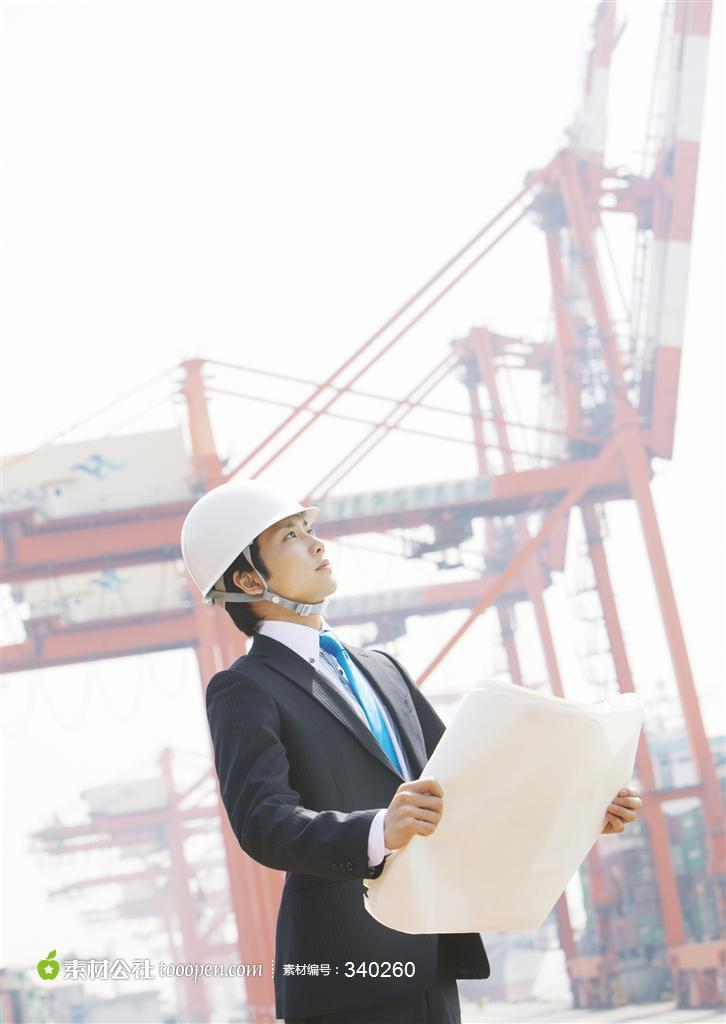helmet: (164, 480, 313, 609)
